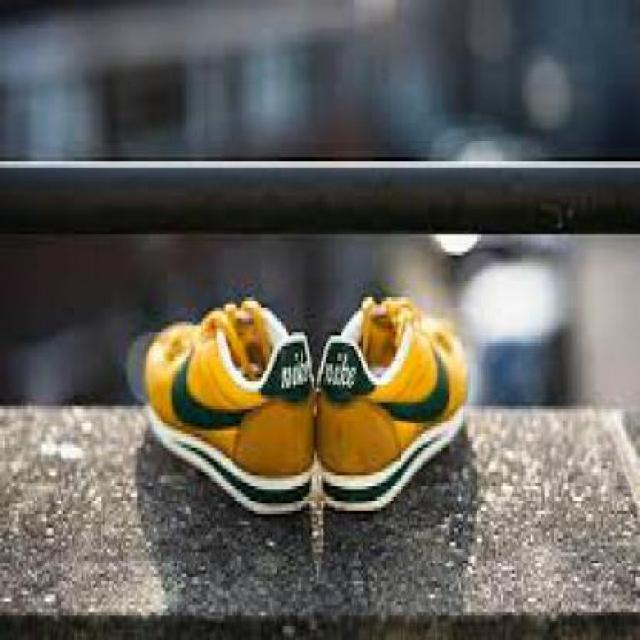Nike: (166, 346, 257, 434), (373, 339, 450, 424)
